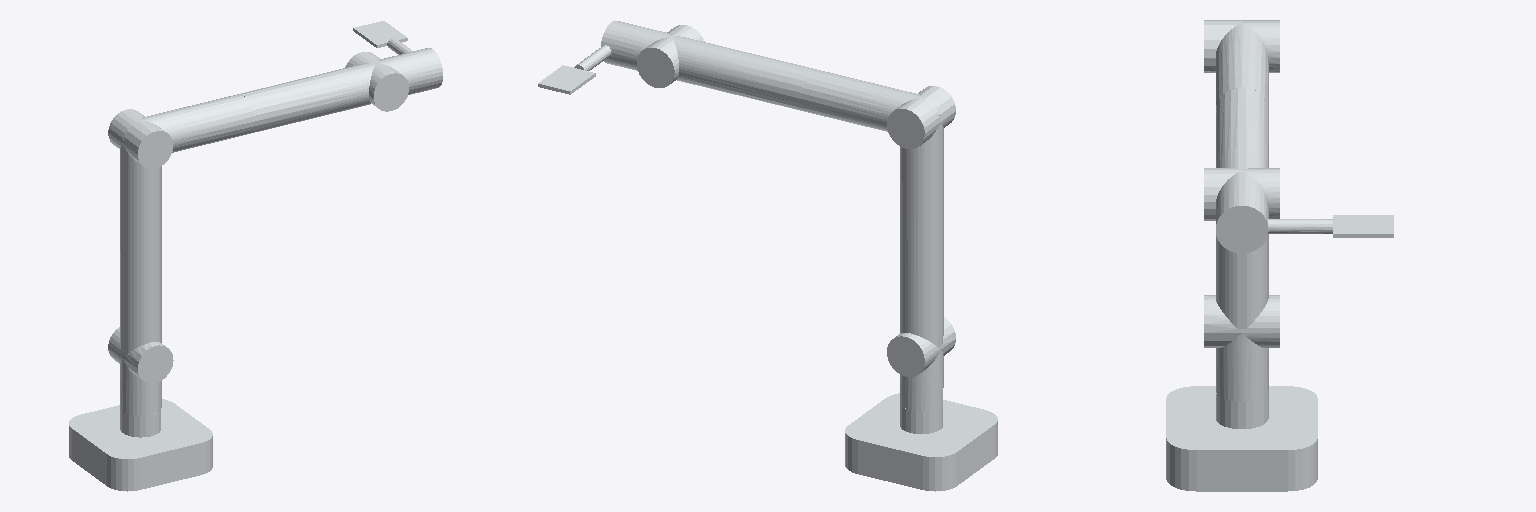
URDF robot description (wfbot):
<?xml version="1.0" encoding="utf-8" ?>
<!-- This URDF was automatically created by SolidWorks to URDF Exporter! Originally created by [author] ([email redacted]) 
     Commit Version: 1.6.0-4-g7f85cfe  Build Version: 1.6.7995.38578
     For more information, please see http://wiki.ros.org/sw_urdf_exporter -->
<robot name="wfbot">
  <link name="world"/>
  <joint name="fixed" type="fixed">
    <parent link="world"/>
    <child link="base_link"/>
  </joint>
    <link name="base_link">
        <inertial>
            <origin xyz="-1.00656249564408E-17 -9.83055930526371E-18 0.0165571122119112" rpy="0 0 0" />
            <mass value="0.834141690485051" />
            <inertia ixx="0.000711770056652346" ixy="-6.25348543090089E-20" ixz="-1.3400325923359E-20" iyy="0.000711770056652346" iyz="1.52024383113047E-20" izz="0.00124185067375552" />
        </inertial>
        <visual>
            <origin xyz="0 0 0" rpy="0 0 0" />
            <geometry>
                <mesh filename="package://wfbot/meshes/base_link.STL" />
            </geometry>
            <material name="">
                <color rgba="0.898039215686275 0.917647058823529 0.929411764705882 1" />
            </material>
        </visual>
        <collision>
            <origin xyz="0 0 0" rpy="0 0 0" />
            <geometry>
                <mesh filename="package://wfbot/meshes/base_link.STL" />
            </geometry>
        </collision>
    </link>
    <link name="link1">
        <inertial>
            <origin xyz="-2.81688983999106E-10 0.00519573727821417 -0.0188734513627191" rpy="0 0 0" />
            <mass value="0.156240644307852" />
            <inertia ixx="7.05091370799355E-05" ixy="-8.03663538766441E-12" ixz="-1.47753086330634E-12" iyy="6.69576826730205E-05" iyz="-1.53211780887282E-05" izz="2.86580858881946E-05" />
        </inertial>
        <visual>
            <origin xyz="0 0 0" rpy="0 0 0" />
            <geometry>
                <mesh filename="package://wfbot/meshes/link1.STL" />
            </geometry>
            <material name="">
                <color rgba="0.898039215686275 0.917647058823529 0.929411764705882 1" />
            </material>
        </visual>
        <collision>
            <origin xyz="0 0 0" rpy="0 0 0" />
            <geometry>
                <mesh filename="package://wfbot/meshes/link1.STL" />
            </geometry>
        </collision>
    </link>
    <joint name="joint1" type="revolute">
        <origin xyz="0 0 0.1" rpy="0 0 0" />
        <parent link="base_link" />
        <child link="link1" />
        <axis xyz="0 0 1" />
        <limit lower="-3.14" upper="3.14" effort="100" velocity="1" />
    </joint>
    <link name="link2">
        <inertial>
            <origin xyz="0.100000018754715 -9.46856132276896E-08 0.00283719869373054" rpy="0 0 0" />
            <mass value="0.572252699208686" />
            <inertia ixx="0.000100923501154532" ixy="-1.8243518273407E-10" ixz="8.49293710223378E-11" iyy="0.00243781342096495" iyz="-3.14549317909271E-09" izz="0.00242688486248831" />
        </inertial>
        <visual>
            <origin xyz="0 0 0" rpy="0 0 0" />
            <geometry>
                <mesh filename="package://wfbot/meshes/link2.STL" />
            </geometry>
            <material name="">
                <color rgba="0.898039215686275 0.917647058823529 0.929411764705882 1" />
            </material>
        </visual>
        <collision>
            <origin xyz="0 0 0" rpy="0 0 0" />
            <geometry>
                <mesh filename="package://wfbot/meshes/link2.STL" />
            </geometry>
        </collision>
    </link>
    <joint name="joint2" type="revolute">
        <origin xyz="0 0 0" rpy="1.5707963267949 -1.5707963267949 0" />
        <parent link="link1" />
        <child link="link2" />
        <axis xyz="0 0 1" />
        <limit lower="-1.57" upper="1.57" effort="100" velocity="1" />
    </joint>
    <link name="link3">
        <inertial>
            <origin xyz="-1.25951693519255E-10 -0.0443518151081069 -0.00283716003301226" rpy="0 0 0" />
            <mass value="0.286126076756022" />
            <inertia ixx="0.000332852760826762" ixy="-3.28805919140135E-13" ixz="-4.0577624995571E-11" iyy="5.0461218395735E-05" iyz="3.60041029529342E-05" izz="0.000327386314574333" />
        </inertial>
        <visual>
            <origin xyz="0 0 0" rpy="0 0 0" />
            <geometry>
                <mesh filename="package://wfbot/meshes/link3.STL" />
            </geometry>
            <material name="">
                <color rgba="0.898039215686275 0.917647058823529 0.929411764705882 1" />
            </material>
        </visual>
        <collision>
            <origin xyz="0 0 0" rpy="0 0 0" />
            <geometry>
                <mesh filename="package://wfbot/meshes/link3.STL" />
            </geometry>
        </collision>
    </link>
    <joint name="joint3" type="revolute">
        <origin xyz="0.2 0 0" rpy="0 0 0" />
        <parent link="link2" />
        <child link="link3" />
        <axis xyz="0 0 1" />
        <limit lower="-1.57" upper="4.71" effort="100" velocity="1" />
    </joint>
    <link name="link4">
        <inertial>
            <origin xyz="-9.88443771277048E-11 0.00222982752227358 -0.0594749469822113" rpy="0 0 0" />
            <mass value="0.364057746361743" />
            <inertia ixx="0.000650860939723801" ixy="-2.56683016608169E-11" ixz="1.05503032223504E-13" iyy="0.000644901325062689" iyz="-4.82808398717736E-05" izz="6.28874225725151E-05" />
        </inertial>
        <visual>
            <origin xyz="0 0 0" rpy="0 0 0" />
            <geometry>
                <mesh filename="package://wfbot/meshes/link4.STL" />
            </geometry>
            <material name="">
                <color rgba="0.898039215686275 0.917647058823529 0.929411764705882 1" />
            </material>
        </visual>
        <collision>
            <origin xyz="0 0 0" rpy="0 0 0" />
            <geometry>
                <mesh filename="package://wfbot/meshes/link4.STL" />
            </geometry>
        </collision>
    </link>
    <joint name="joint4" type="revolute">
        <origin xyz="0 -0.23 0" rpy="1.5707963267949 0 0" />
        <parent link="link3" />
        <child link="link4" />
        <axis xyz="0 0 1" />
        <limit lower="-3.14" upper="3.14" effort="100" velocity="1" />
    </joint>
    <link name="link5">
        <inertial>
            <origin xyz="1.08881964555607E-09 -0.0162779227933748 -0.00566683550817857" rpy="0 0 0" />
            <mass value="0.143252012983312" />
            <inertia ixx="5.74963388229914E-05" ixy="2.47035467229364E-12" ixz="2.20650210671046E-12" iyy="2.62867188759384E-05" iyz="1.32141872996001E-05" izz="5.43272563819677E-05" />
        </inertial>
        <visual>
            <origin xyz="0 0 0" rpy="0 0 0" />
            <geometry>
                <mesh filename="package://wfbot/meshes/link5.STL" />
            </geometry>
            <material name="">
                <color rgba="0.898039215686275 0.917647058823529 0.929411764705882 1" />
            </material>
        </visual>
        <collision>
            <origin xyz="0 0 0" rpy="0 0 0" />
            <geometry>
                <mesh filename="package://wfbot/meshes/link5.STL" />
            </geometry>
        </collision>
    </link>
    <joint name="joint5" type="revolute">
        <origin xyz="0 0 0" rpy="-1.5707963267949 0 0" />
        <parent link="link4" />
        <child link="link5" />
        <axis xyz="0 0 -1" />
        <limit lower="-1.57" upper="1.57" effort="100" velocity="1" />
    </joint>
    <link name="link6">
        <inertial>
            <origin xyz="0.009989 2.5238E-09 -2.0853E-09" rpy="0 0 0" />
            <mass value="0.035028" />
            <inertia ixx="2.3186E-06" ixy="-1.7581E-12" ixz="1.5719E-12" iyy="1.3667E-05" iyz="5.2365E-13" izz="1.544E-05" />
        </inertial>
        <visual>
            <origin xyz="0 0 0" rpy="0 0 0" />
            <geometry>
                <mesh filename="package://wfbot/meshes/link6.STL" />
            </geometry>
            <material name="">
                <color rgba="0.89804 0.91765 0.92941 1" />
            </material>
        </visual>
        <collision>
            <origin xyz="0 0 0" rpy="0 0 0" />
            <geometry>
                <mesh filename="package://wfbot/meshes/link6.STL" />
            </geometry>
        </collision>
    </link>
    <joint name="joint6" type="revolute">
        <origin xyz="0 -0.05 0" rpy="1.5708 1.5708 0" />
        <parent link="link5" />
        <child link="link6" />
        <axis xyz="0 0 -1" />
        <limit lower="-3.14" upper="3.14" effort="100" velocity="1" />
    </joint>
    <link name="tool">
        <inertial>
            <origin xyz="-0.02 -5.5511E-17 5.5511E-17" rpy="0 0 0" />
            <mass value="0.00972" />
            <inertia ixx="7.3629E-07" ixy="5.7175E-23" ixz="1.0422E-23" iyy="1.3033E-06" iyz="4.4997E-22" izz="2.025E-06" />
        </inertial>
        <visual>
            <origin xyz="0 0 0" rpy="0 0 0" />
            <geometry>
                <mesh filename="package://wfbot/meshes/tool.STL" />
            </geometry>
            <material name="">
                <color rgba="0.89804 0.91765 0.92941 1" />
            </material>
        </visual>
        <collision>
            <origin xyz="0 0 0" rpy="0 0 0" />
            <geometry>
                <mesh filename="package://wfbot/meshes/tool.STL" />
            </geometry>
        </collision>
    </link>
    <joint name="joint7" type="fixed">
        <origin xyz="0.1 0 0" rpy="-1.5708 0 0" />
        <parent link="link6" />
        <child link="tool" />
        <axis xyz="0 0 0" />
        <limit lower="0" upper="0" effort="0" velocity="0" />
    </joint>
    <transmission name="trans_joint1">
        <type>transmission_interface/SimpleTransmission</type>
        <joint name="joint1">
            <hardwareInterface>hardware_interface/EffortJointInterface</hardwareInterface>
        </joint>
        <actuator name="joint1_motor">
            <hardwareInterface>hardware_interface/EffortJointInterface</hardwareInterface>
            <mechanicalReduction>1</mechanicalReduction>
        </actuator>
    </transmission>
    <transmission name="trans_joint2">
        <type>transmission_interface/SimpleTransmission</type>
        <joint name="joint2">
            <hardwareInterface>hardware_interface/EffortJointInterface</hardwareInterface>
        </joint>
        <actuator name="joint2_motor">
            <hardwareInterface>hardware_interface/EffortJointInterface</hardwareInterface>
            <mechanicalReduction>1</mechanicalReduction>
        </actuator>
    </transmission>
    <transmission name="trans_joint3">
        <type>transmission_interface/SimpleTransmission</type>
        <joint name="joint3">
            <hardwareInterface>hardware_interface/EffortJointInterface</hardwareInterface>
        </joint>
        <actuator name="joint3_motor">
            <hardwareInterface>hardware_interface/EffortJointInterface</hardwareInterface>
            <mechanicalReduction>1</mechanicalReduction>
        </actuator>
    </transmission>
    <transmission name="trans_joint4">
        <type>transmission_interface/SimpleTransmission</type>
        <joint name="joint4">
            <hardwareInterface>hardware_interface/EffortJointInterface</hardwareInterface>
        </joint>
        <actuator name="joint4_motor">
            <hardwareInterface>hardware_interface/EffortJointInterface</hardwareInterface>
            <mechanicalReduction>1</mechanicalReduction>
        </actuator>
    </transmission>
    <transmission name="trans_joint5">
        <type>transmission_interface/SimpleTransmission</type>
        <joint name="joint5">
            <hardwareInterface>hardware_interface/EffortJointInterface</hardwareInterface>
        </joint>
        <actuator name="joint5_motor">
            <hardwareInterface>hardware_interface/EffortJointInterface</hardwareInterface>
            <mechanicalReduction>1</mechanicalReduction>
        </actuator>
    </transmission>
    <transmission name="trans_joint6">
        <type>transmission_interface/SimpleTransmission</type>
        <joint name="joint6">
            <hardwareInterface>hardware_interface/EffortJointInterface</hardwareInterface>
        </joint>
        <actuator name="joint6_motor">
            <hardwareInterface>hardware_interface/EffortJointInterface</hardwareInterface>
            <mechanicalReduction>1</mechanicalReduction>
        </actuator>
    </transmission>
    <gazebo>
        <plugin name="gazebo_ros_control">
            <robotNamespace>/</robotNamespace>
        </plugin>
    </gazebo>
</robot>

--- What the picture shows (computed from the rendered views, not written in the file) ---
Views: 3 orthographic renders of the robot side by side, from view 1: azimuth 30°, elevation 25°; view 2: azimuth 150°, elevation 25°; view 3: azimuth 270°, elevation 25°.
Model wfbot with 9 links and 8 joints (6 revolute, 2 fixed), rooted at world, posed all joints at 0.
Visible links, largest first — view 1: link2, base_link, link4, link3, link1, link5, tool, link6; view 2: base_link, link2, link3, link4, link1, link5, tool, link6; view 3: base_link, link2, link4, link1, link3, link6, link5, tool.
Boxes of the visible links, x1,y1,x2,y2 form: link2: [120, 121, 173, 383]; base_link: [69, 399, 212, 491]; link4: [241, 63, 408, 133]; link3: [108, 94, 253, 152]; link1: [108, 327, 161, 415]; link5: [345, 50, 432, 94]; tool: [353, 21, 407, 47]; link6: [387, 38, 442, 89]; base_link: [845, 393, 997, 491]; link2: [900, 86, 955, 355]; link3: [802, 70, 940, 148]; link4: [667, 25, 816, 111]; link1: [887, 333, 943, 410]; link5: [611, 23, 678, 87]; tool: [538, 65, 595, 94]; link6: [574, 21, 624, 70]; base_link: [1166, 386, 1317, 491]; link2: [1204, 20, 1268, 347]; link4: [1204, 87, 1268, 220]; link1: [1216, 295, 1279, 401]; link3: [1216, 20, 1279, 109]; link6: [1216, 199, 1332, 253]; link5: [1216, 168, 1279, 218]; tool: [1333, 215, 1393, 237].
Size in the robot's own frame: 0.345 by 0.15 by 0.3175 metres.
8 mesh visuals loaded from 8 distinct referenced files (8 binary STL).